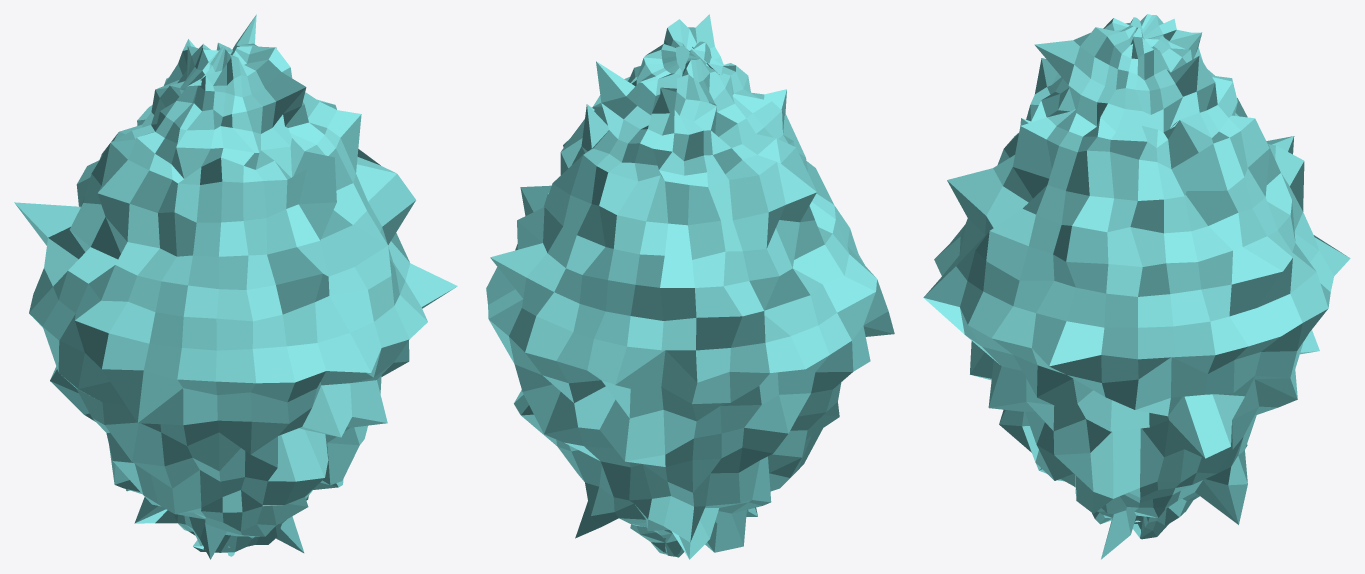
Rendered from ice.fbx.
The picture shows the model from 3 angles, left to right: view 1: azimuth 30°, elevation 25°; view 2: azimuth 150°, elevation 25°; view 3: azimuth 270°, elevation 25°; orthographic projection.
Visible parts, largest first — view 1: Cylinder; view 2: Cylinder; view 3: Cylinder.
Part boxes in pixels (<box>): Cylinder: <box>14,14,457,559</box>; Cylinder: <box>486,14,894,559</box>; Cylinder: <box>923,14,1350,559</box>.
Size of the model in its own units: 212 by 294 by 218.
